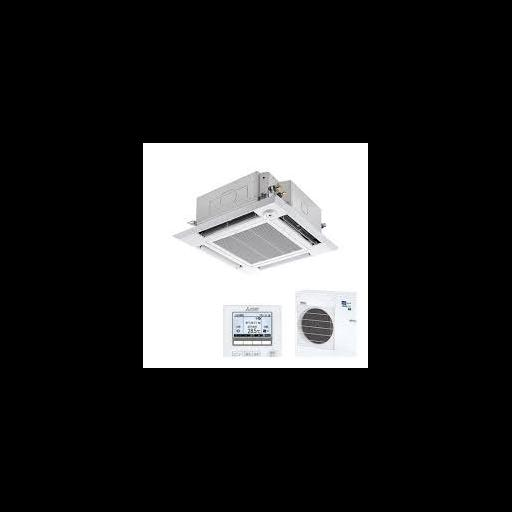4-way-ac: (172, 196, 339, 277)
